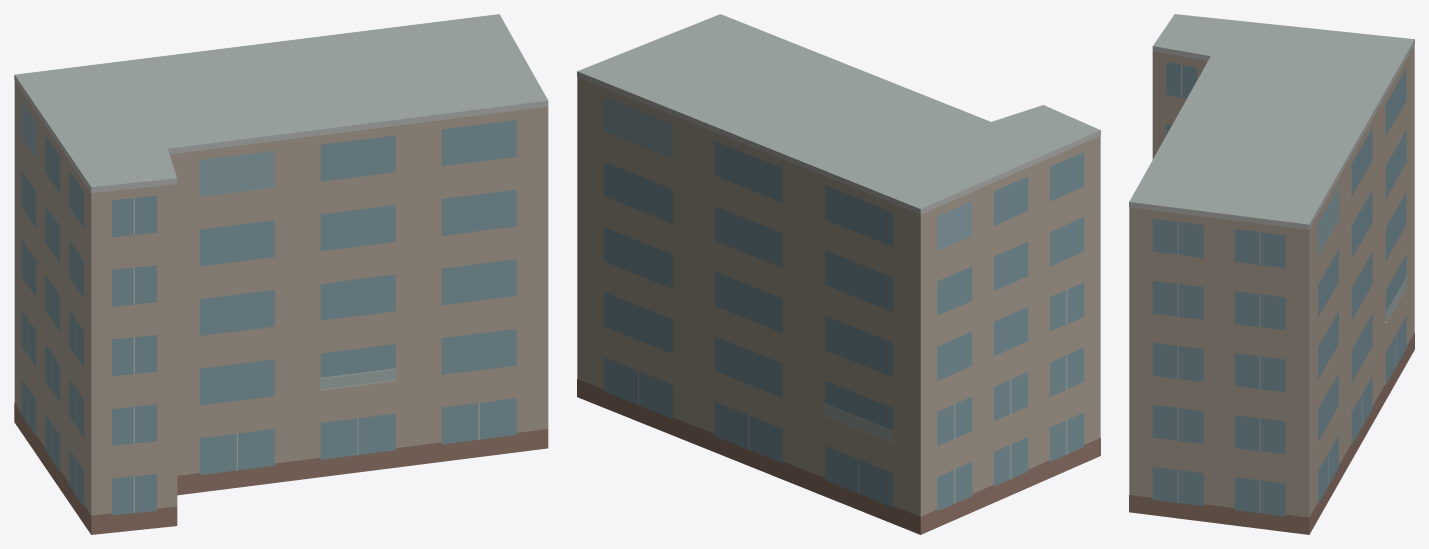
The model's file is survey-upis-32959686.glb.
The picture shows the model from 3 angles, left to right: view 1: azimuth 30°, elevation 25°; view 2: azimuth 150°, elevation 25°; view 3: azimuth 270°, elevation 25°; orthographic projection. The views are drawn at different scales.
Parts seen in each view (by area): view 1: survey-upis-32959686.tmp; view 2: survey-upis-32959686.tmp; view 3: survey-upis-32959686.tmp.
Boxes of the visible parts, x1=… form: survey-upis-32959686.tmp: x1=14, y1=14, x2=548, y2=534; survey-upis-32959686.tmp: x1=577, y1=14, x2=1100, y2=534; survey-upis-32959686.tmp: x1=1129, y1=14, x2=1414, y2=534.
Bounding box in the file's own units: 20.97 × 14.4 × 12.03.
